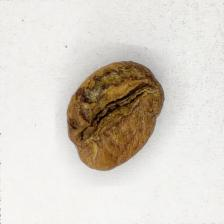NG: (76, 63, 149, 135)
